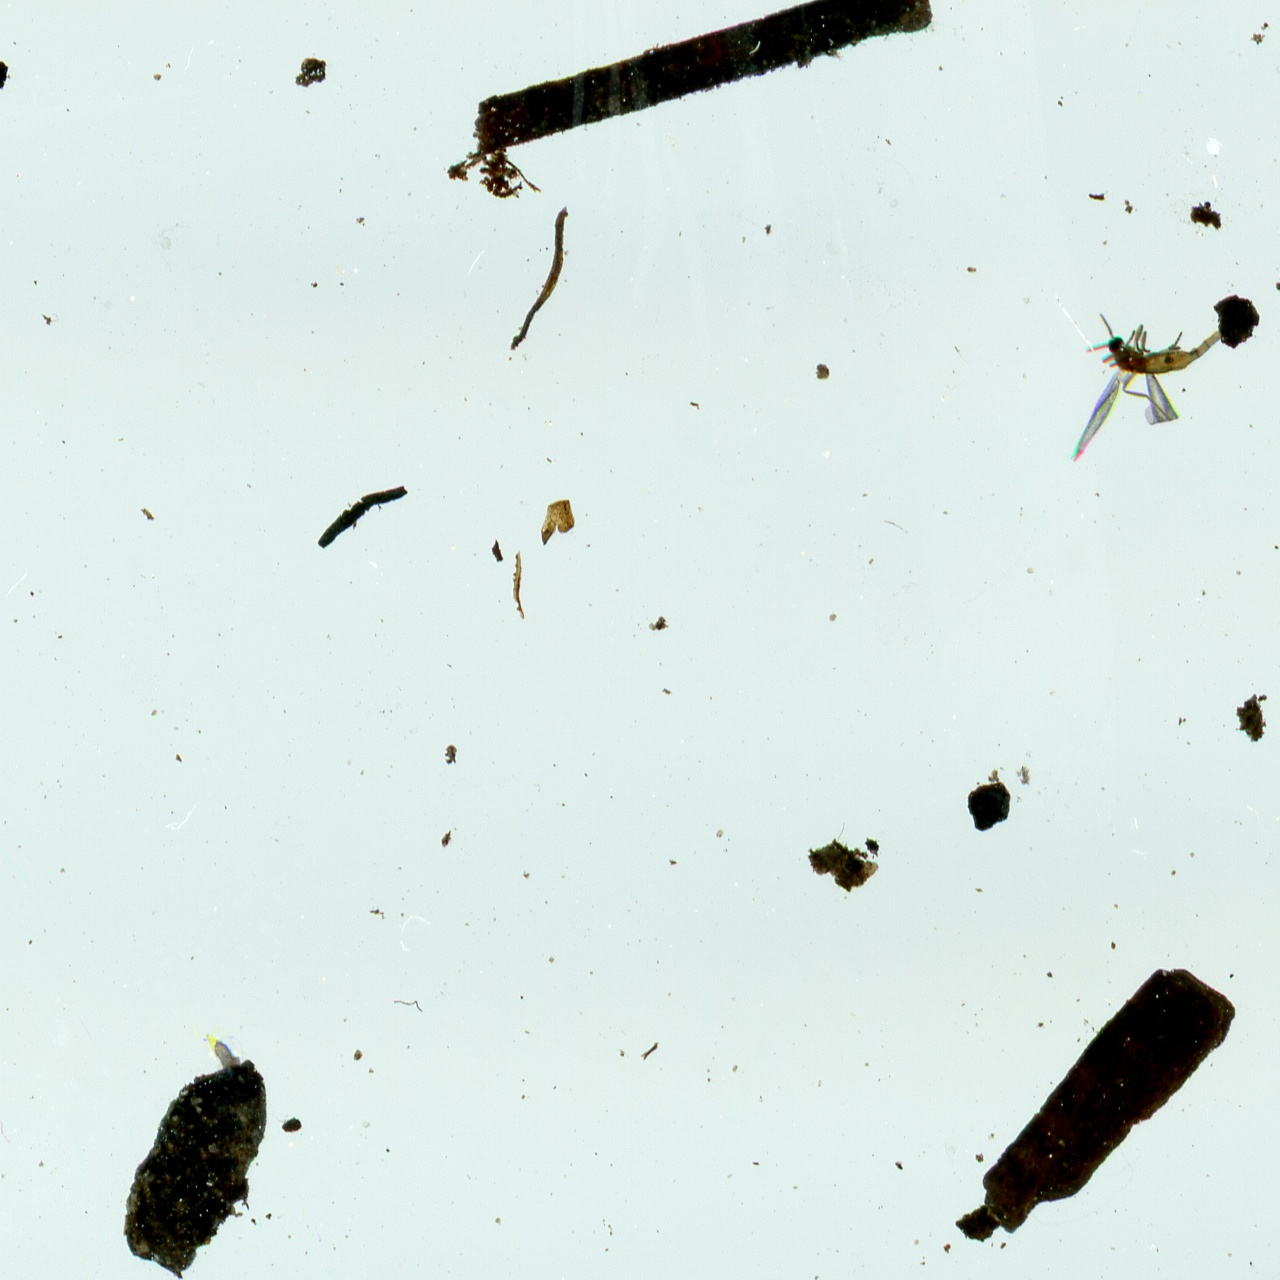arthropod: (1060, 305, 1220, 462)
